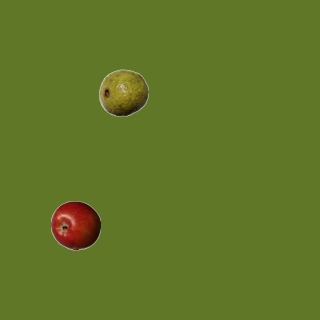Apple Braeburn: (50, 200, 100, 250)
Guava: (98, 67, 148, 117)
